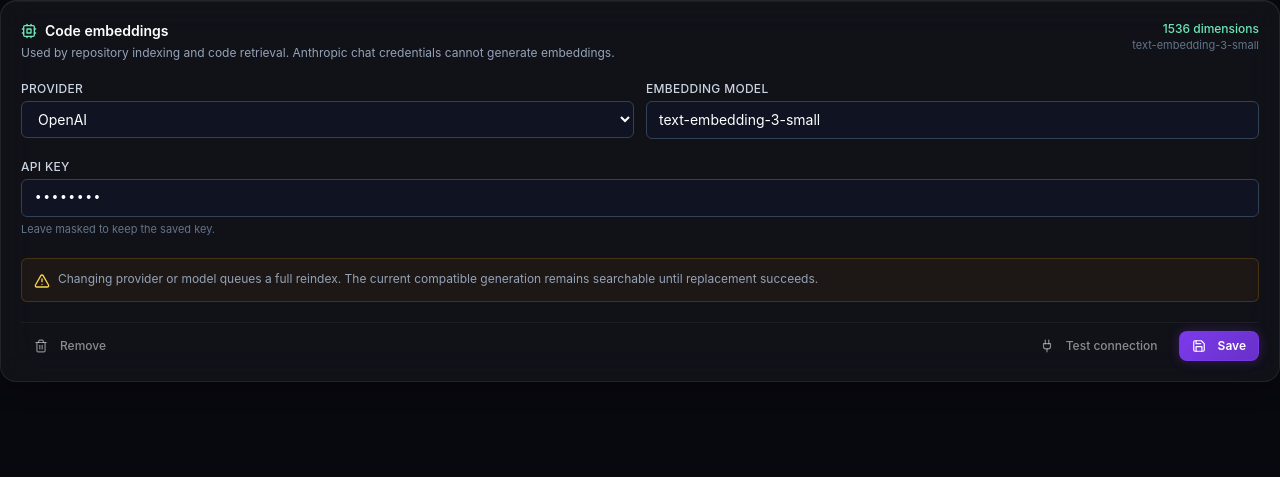
Scenario: EmbeddingSettingsSection › shows the keyless Ollama base URL when the provider changes
Select "Ollama" in the dropdown: coordinates (328, 120) [21,101,634,138]
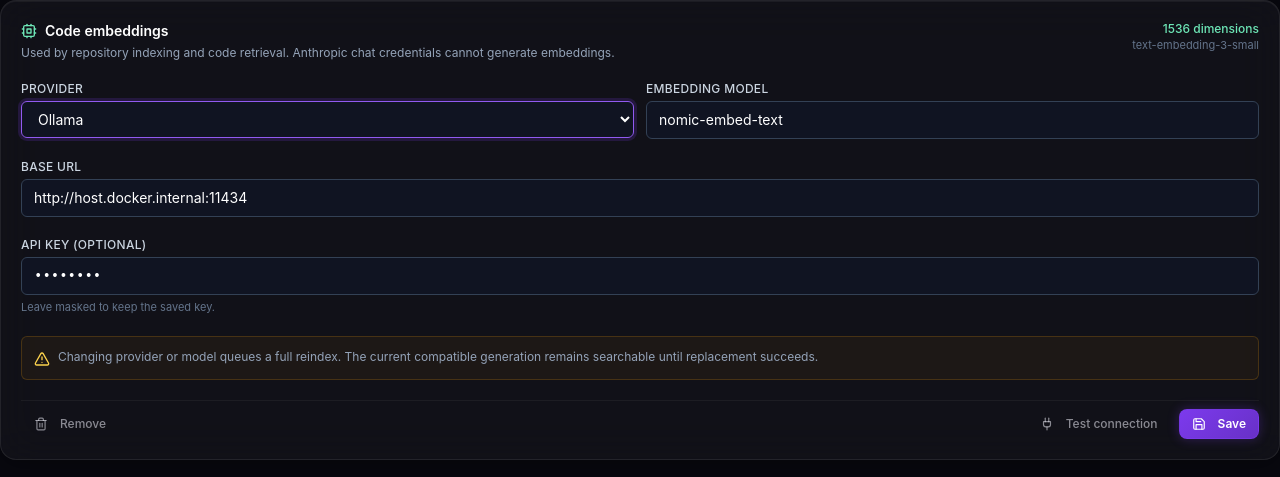
Now the field showing "http://host.docker.internal:11434" below "Base URL" is shown, box [21,179,1259,217]
Now the text "API key (optional)" is shown, box [21,237,146,252]
